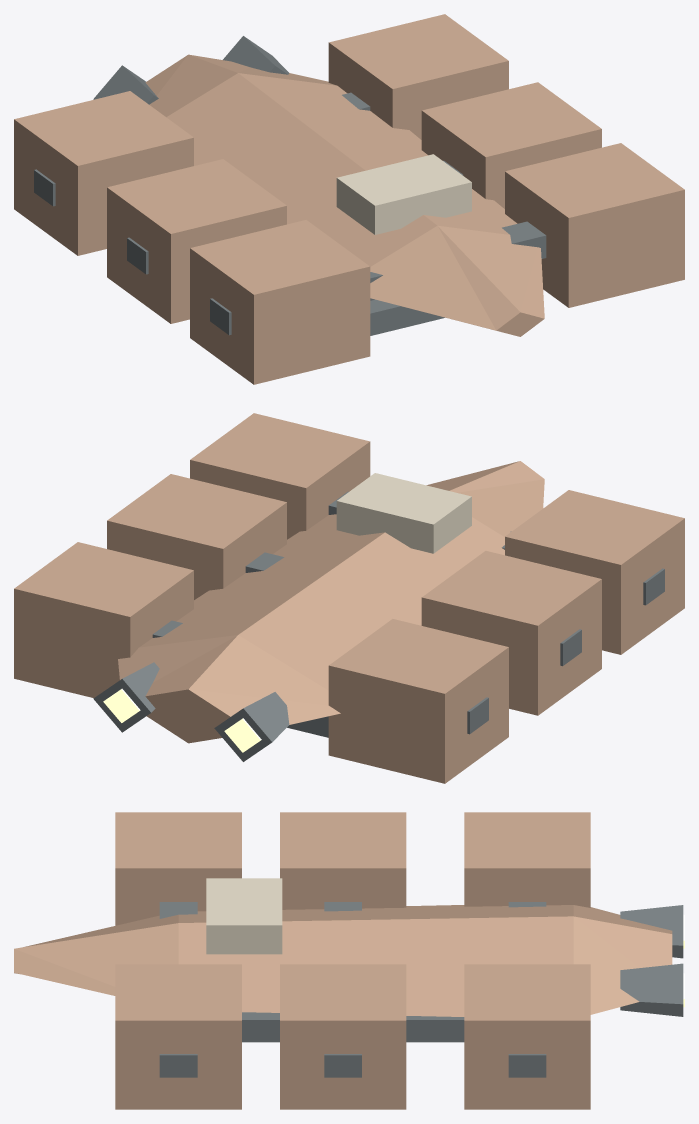
3 renders of one model, top to bottom at view 1: azimuth 30°, elevation 25°; view 2: azimuth 150°, elevation 25°; view 3: azimuth 270°, elevation 25°, orthographic.
Size of the model in its own units: 8.35 by 1.92 by 11.24.
